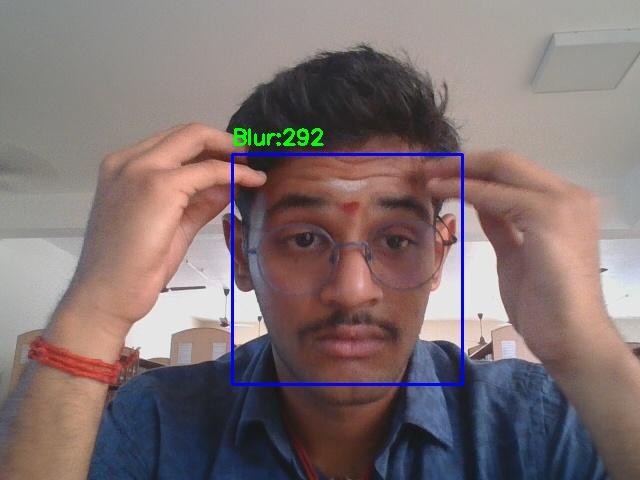real: (232, 154, 462, 384)
